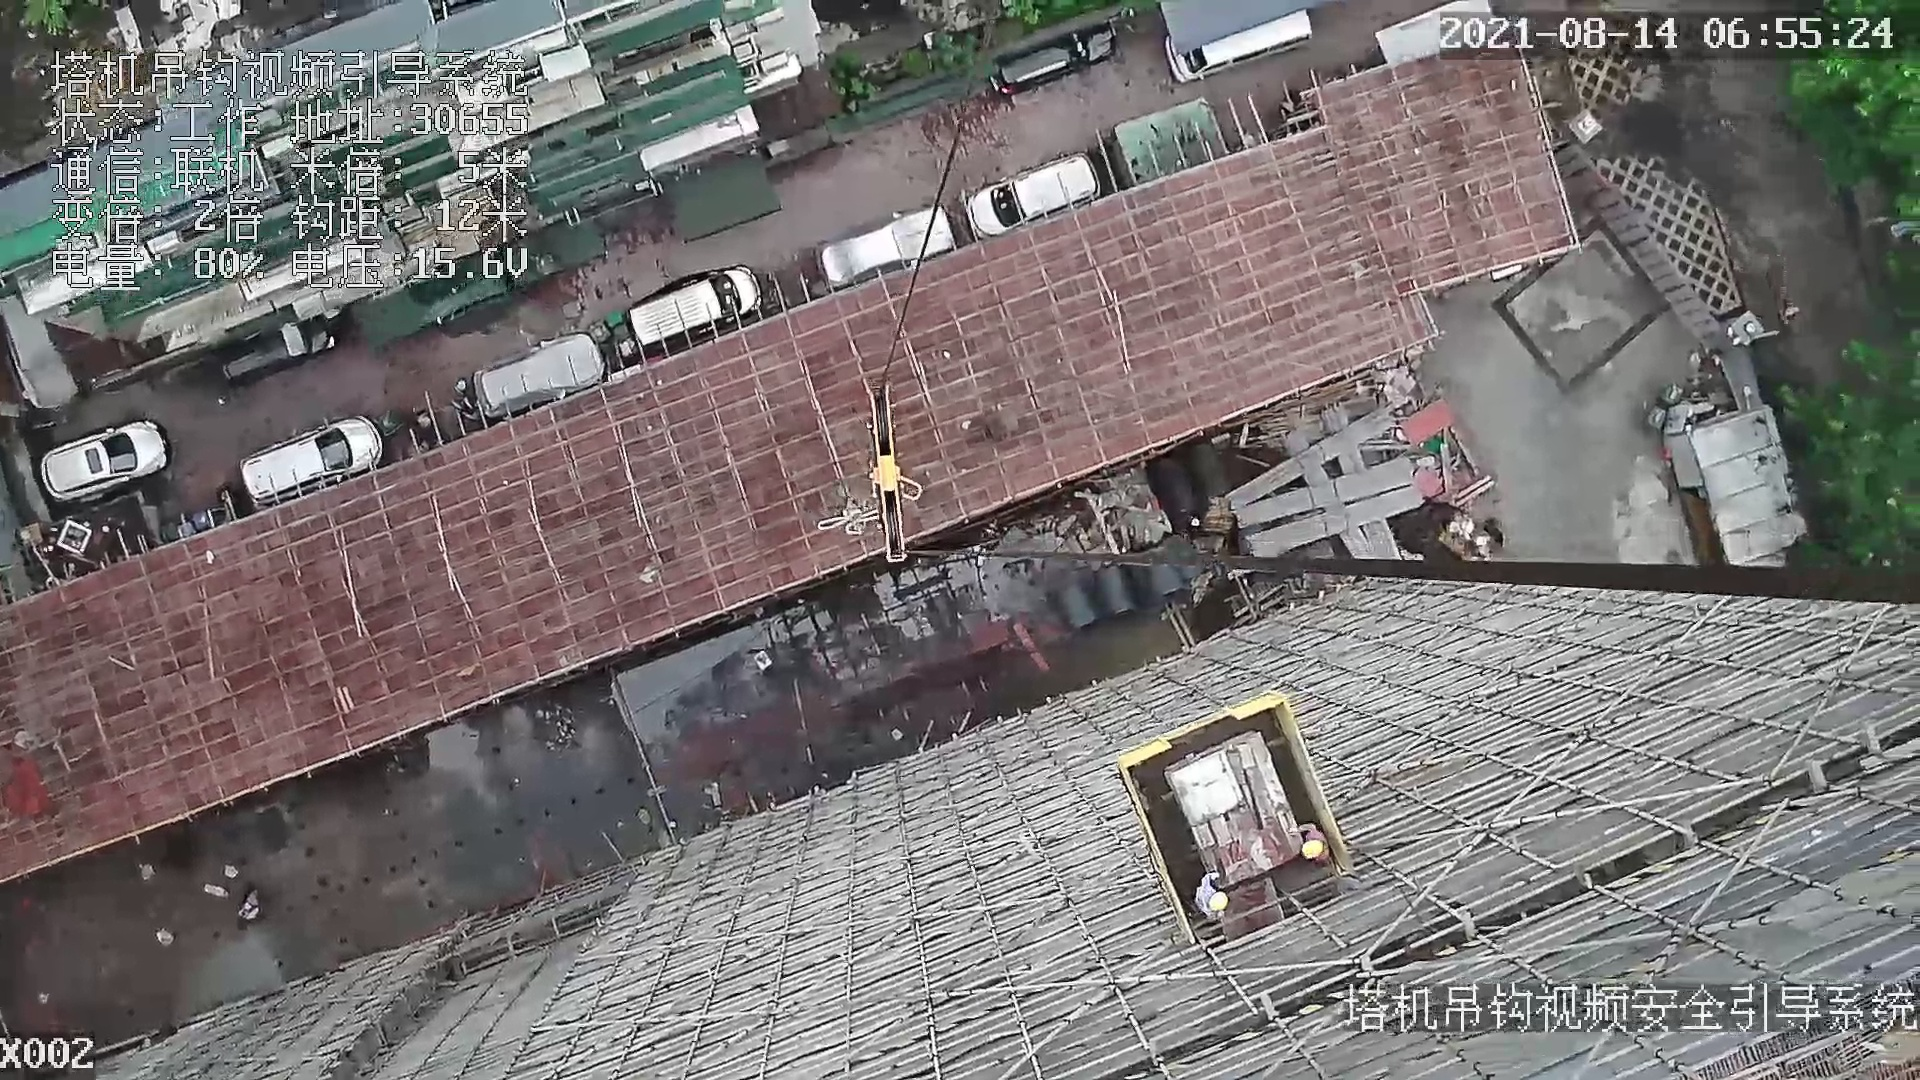board: (1166, 727, 1301, 885)
helmet: (1301, 840, 1323, 858), (1209, 891, 1228, 911)
hook: (854, 380, 920, 571)
person: (1287, 817, 1341, 864), (1194, 863, 1228, 928)
rebar: (1226, 409, 1395, 510), (1236, 455, 1416, 530), (1248, 484, 1424, 558)
